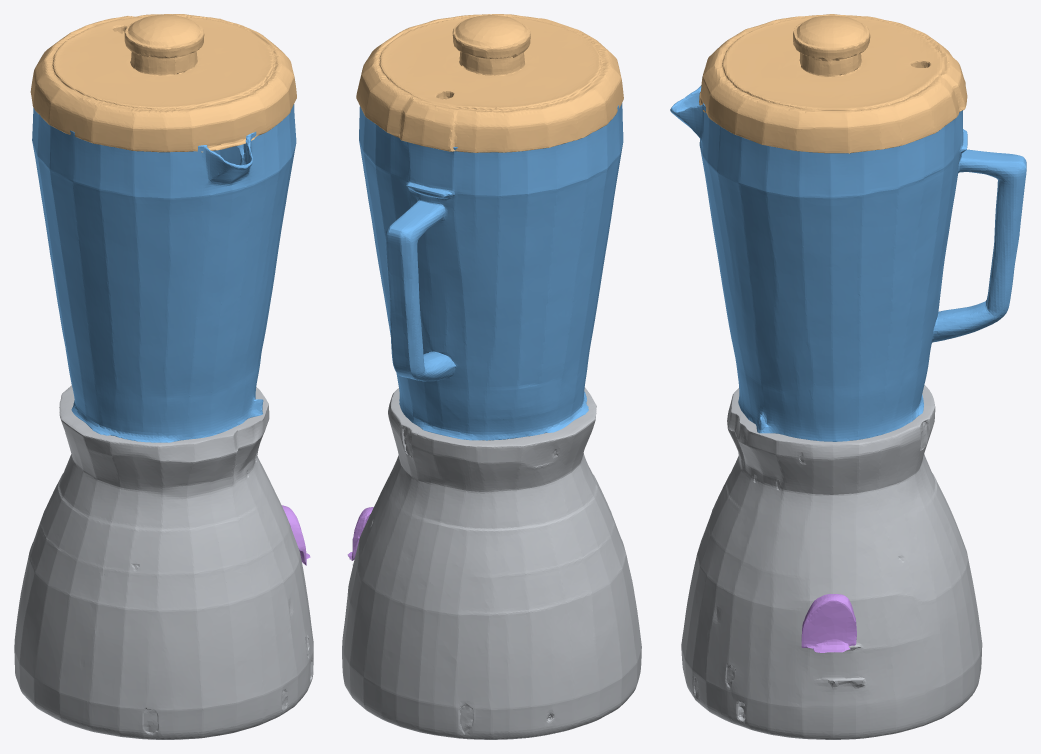
Rendered from parts.glb.
3 renders of one model, left to right at view 1: azimuth 30°, elevation 25°; view 2: azimuth 150°, elevation 25°; view 3: azimuth 270°, elevation 25°, orthographic.
Parts seen in each view (by area): view 1: visual_0_0, visual_1_0, visual_2_0, visual_4_0; view 2: visual_0_0, visual_1_0, visual_2_0; view 3: visual_0_0, visual_1_0, visual_2_0, visual_4_0.
Part boxes in pixels (x1,y1,x2,y2): visual_0_0: (14,385,313,739); visual_1_0: (32,104,296,442); visual_2_0: (30,14,296,152); visual_4_0: (282,505,310,565); visual_0_0: (342,387,641,739); visual_1_0: (359,103,623,440); visual_2_0: (356,14,623,152); visual_0_0: (681,385,982,739); visual_1_0: (670,85,1026,441); visual_2_0: (699,14,967,153); visual_4_0: (801,594,856,652).
Bounding box in the file's own units: 0.4278 × 0.997 × 0.4893.
